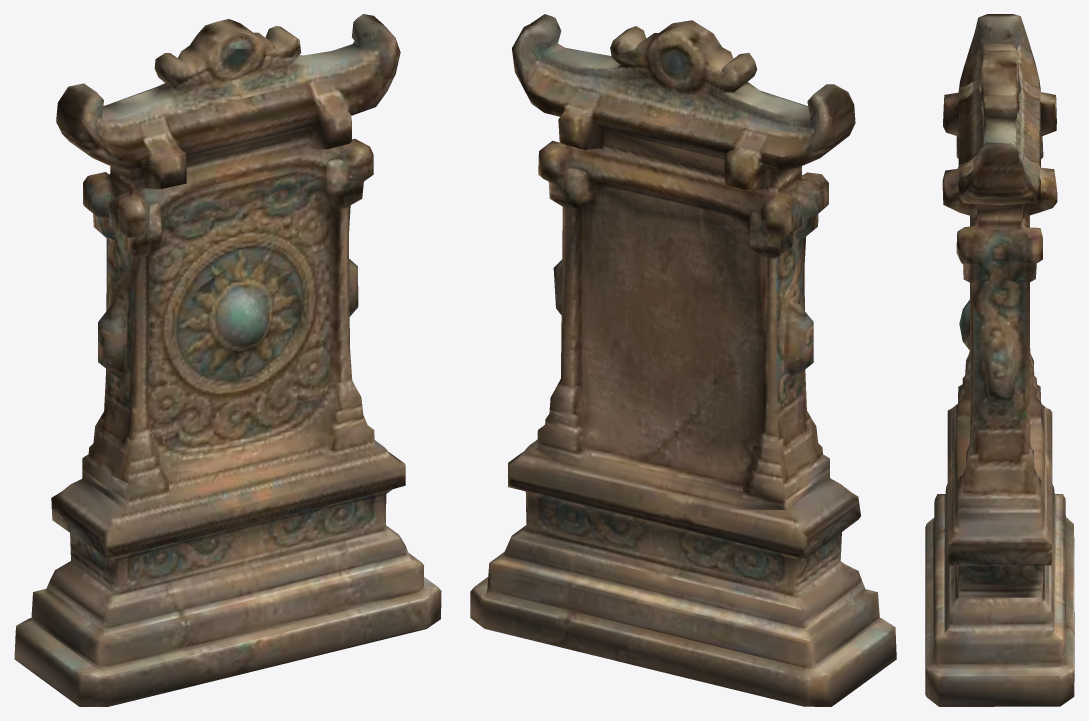
The model's file is SM_Prop_DesertReliquary.glb.
3 renders of one model, left to right at view 1: azimuth 30°, elevation 25°; view 2: azimuth 150°, elevation 25°; view 3: azimuth 270°, elevation 25°, orthographic. The views are drawn at different scales.
Parts seen in each view (by area): view 1: SM_Prop_DesertReliquary_LOD0; view 2: SM_Prop_DesertReliquary_LOD0; view 3: SM_Prop_DesertReliquary_LOD0.
Part boxes in pixels (box(x1,y1,x2,y2)): SM_Prop_DesertReliquary_LOD0: box(14, 14, 441, 706); SM_Prop_DesertReliquary_LOD0: box(470, 14, 896, 706); SM_Prop_DesertReliquary_LOD0: box(925, 14, 1074, 706).
Bounding box in the file's own units: 1.52 × 2.46 × 0.5826.
1 material, 1 textured.
